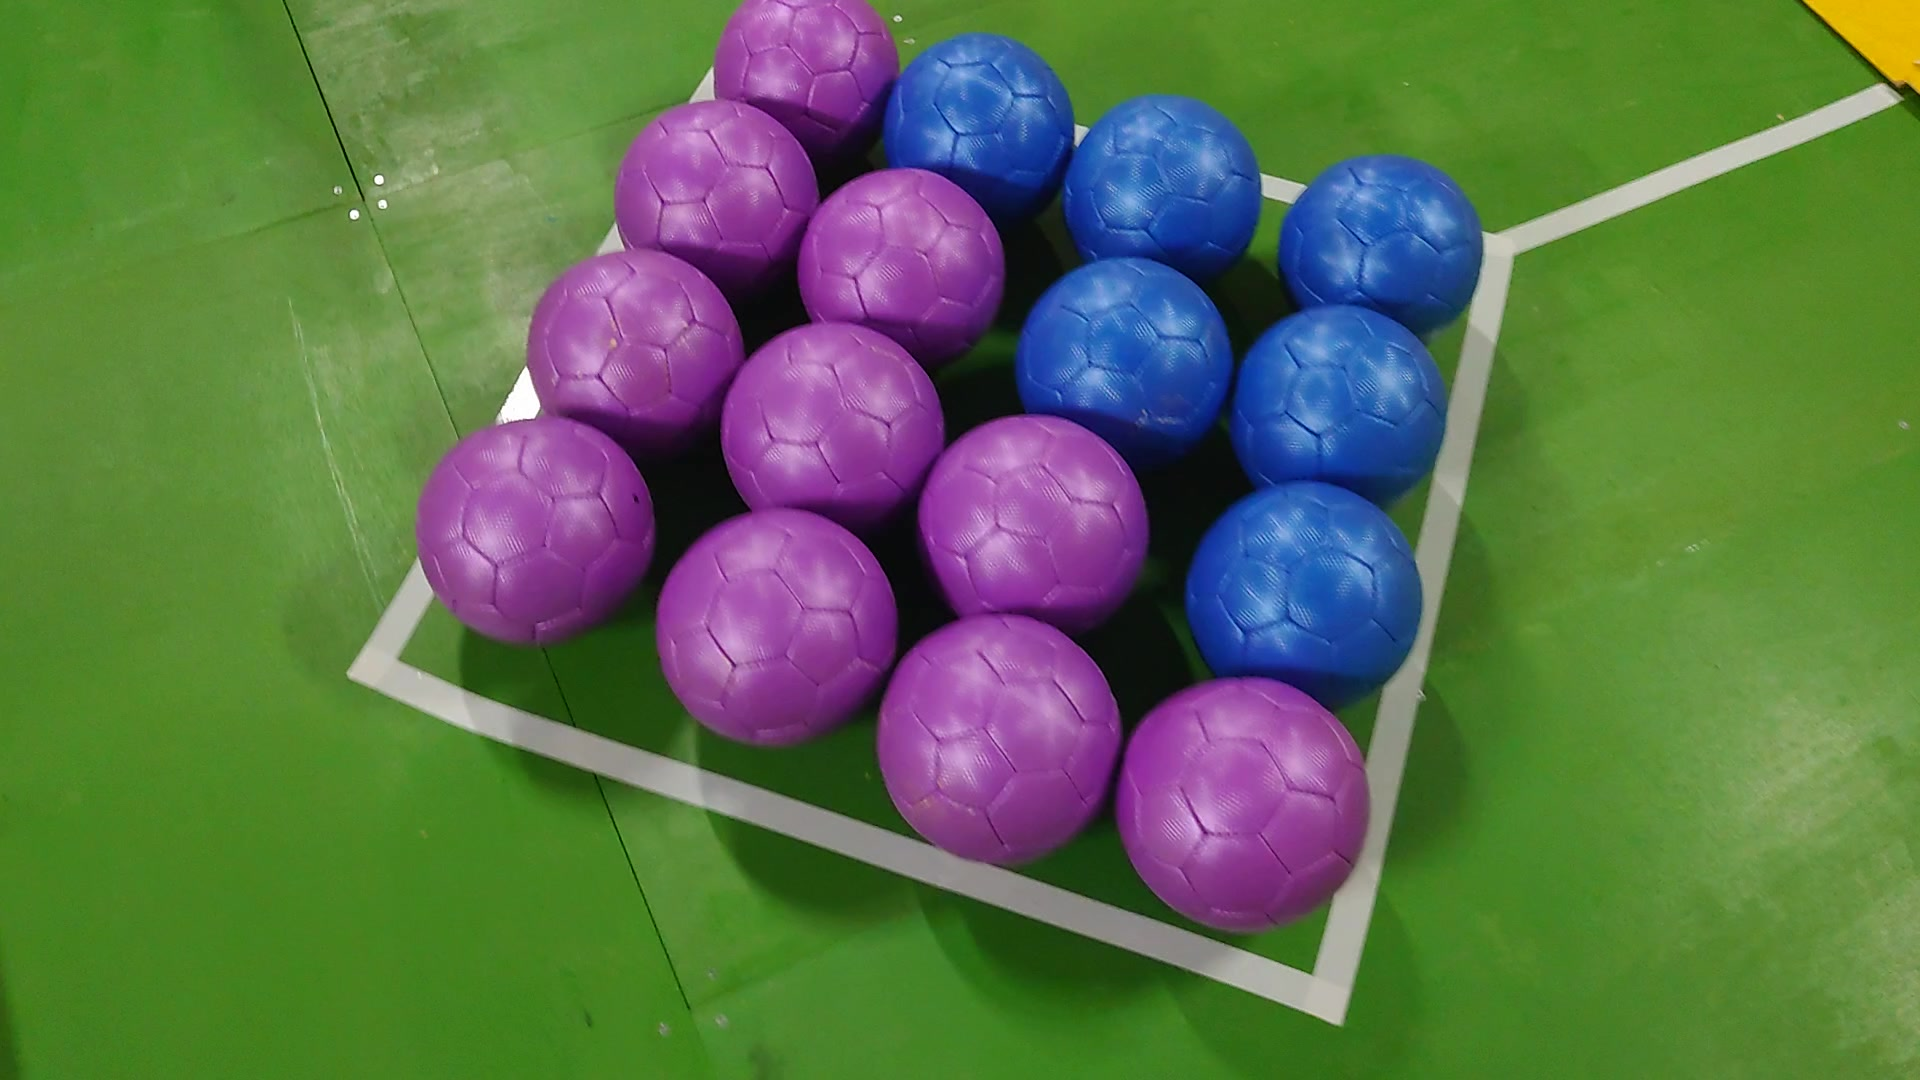blue: (1182, 477, 1424, 699), (1013, 252, 1228, 458), (1234, 301, 1449, 496), (1055, 88, 1267, 265), (1280, 150, 1489, 327), (882, 29, 1077, 212)
purple: (1124, 673, 1374, 927), (878, 611, 1124, 862), (650, 502, 891, 752), (414, 414, 653, 644), (914, 414, 1153, 626), (719, 320, 940, 522), (533, 245, 745, 438), (796, 166, 1009, 345), (611, 98, 810, 287), (708, 0, 901, 135)
